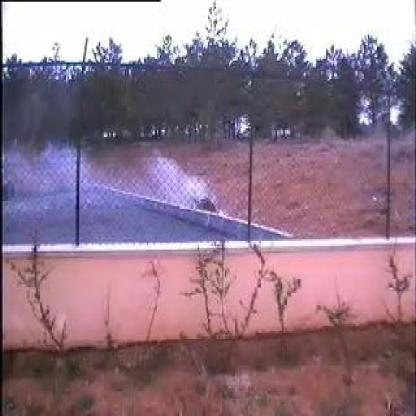-: (37, 130, 236, 239)
